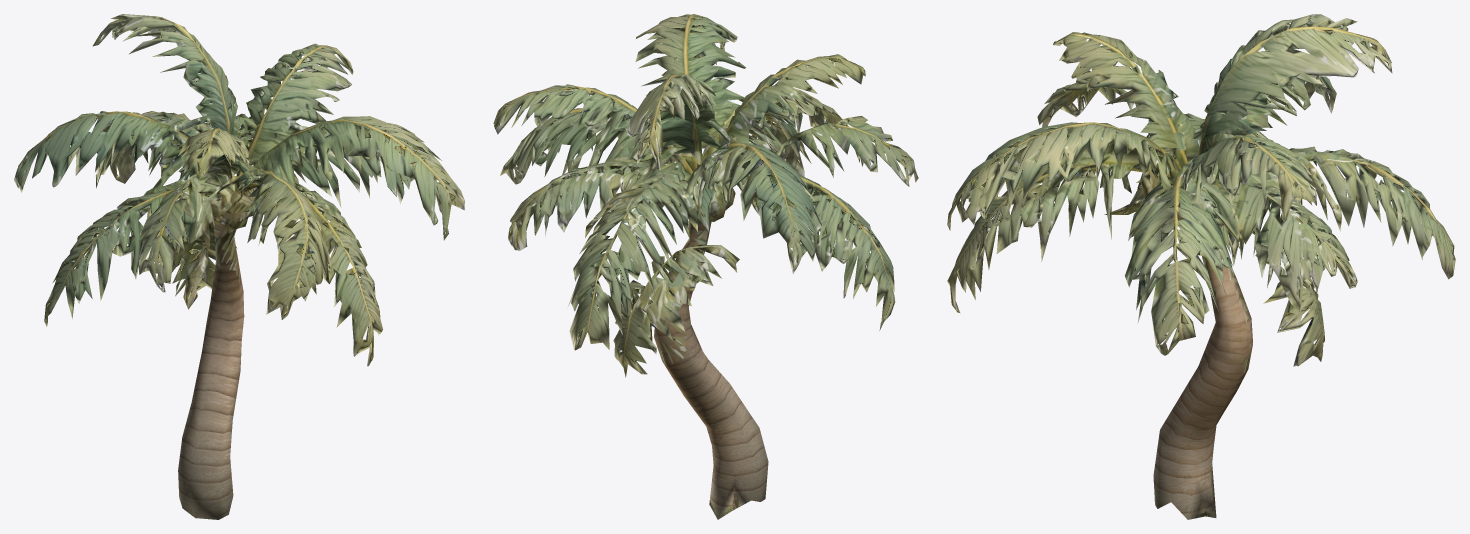
The model's file is VAR_Pool_WaterPalm_B.fbx.
3 renders of one model, left to right at view 1: azimuth 30°, elevation 25°; view 2: azimuth 150°, elevation 25°; view 3: azimuth 270°, elevation 25°, orthographic. The views are drawn at different scales.
Visible parts, largest first — view 1: texture_mapping; view 2: texture_mapping; view 3: texture_mapping.
Boxes of the visible parts, x1=… form: texture_mapping: x1=14, y1=14, x2=464, y2=519; texture_mapping: x1=493, y1=14, x2=918, y2=519; texture_mapping: x1=947, y1=14, x2=1455, y2=519.
Bounding box in the file's own units: 0.8612 × 0.9042 × 0.9801.
1 material, 1 textured.
